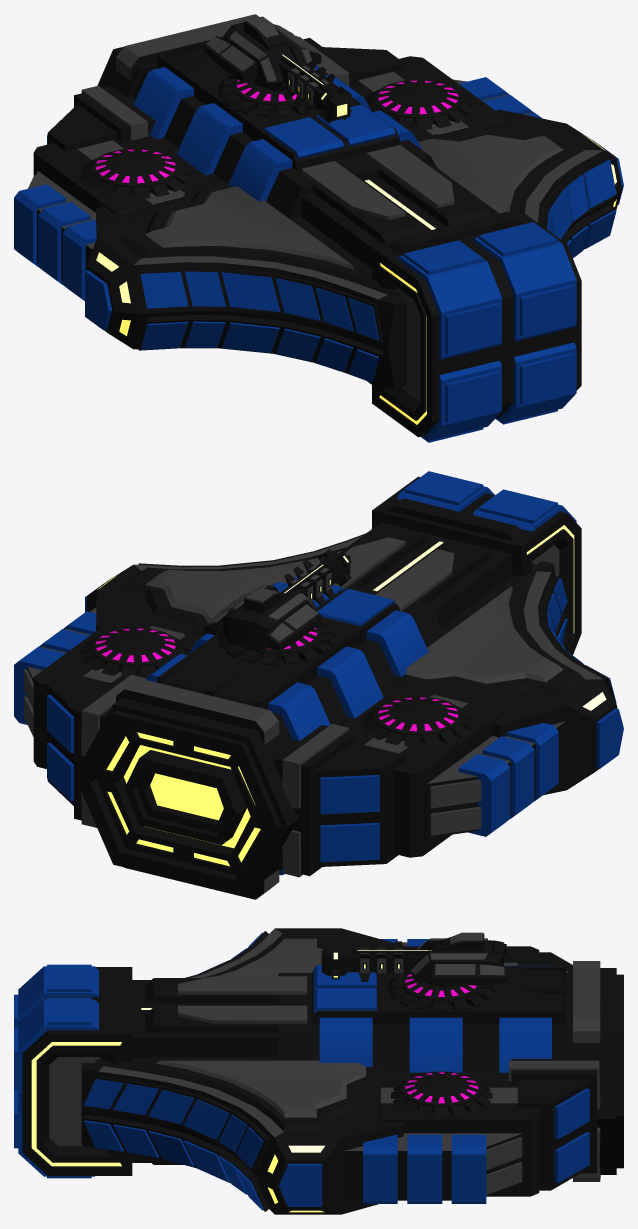
File: 01_ship_capital_yobegregor.glb
The picture shows the model from 3 angles, top to bottom: view 1: azimuth 30°, elevation 25°; view 2: azimuth 150°, elevation 25°; view 3: azimuth 270°, elevation 25°; orthographic projection. The views are drawn at different scales.
Visible parts, largest first — view 1: 01_ship_capital_yobegregor, 01_ship_capital_yobegregor_gun_base, 01_ship_capital_yobegregor_gun_barrel, 01_ship_capital_yobegregor_gun_barrel_soulwarden; view 2: 01_ship_capital_yobegregor, 01_ship_capital_yobegregor_gun_base, 01_ship_capital_yobegregor_gun_barrel, 01_ship_capital_yobegregor_gun_barrel_soulwarden; view 3: 01_ship_capital_yobegregor, 01_ship_capital_yobegregor_gun_base, 01_ship_capital_yobegregor_gun_barrel, 01_ship_capital_yobegregor_gun_barrel_soulwarden.
Boxes of the visible parts, x1,y1,x2,y2 form: 01_ship_capital_yobegregor: (14, 14, 623, 442); 01_ship_capital_yobegregor_gun_base: (203, 16, 321, 91); 01_ship_capital_yobegregor_gun_barrel: (271, 44, 351, 123); 01_ship_capital_yobegregor_gun_barrel_soulwarden: (284, 60, 335, 113); 01_ship_capital_yobegregor: (14, 471, 623, 899); 01_ship_capital_yobegregor_gun_base: (203, 584, 321, 650); 01_ship_capital_yobegregor_gun_barrel: (280, 549, 351, 602); 01_ship_capital_yobegregor_gun_barrel_soulwarden: (284, 559, 335, 610); 01_ship_capital_yobegregor: (14, 928, 623, 1214); 01_ship_capital_yobegregor_gun_base: (410, 932, 506, 987); 01_ship_capital_yobegregor_gun_barrel: (321, 943, 441, 979); 01_ship_capital_yobegregor_gun_barrel_soulwarden: (359, 941, 403, 981).
Bounding box in the file's own units: 0.8386 × 0.3892 × 0.9421.
